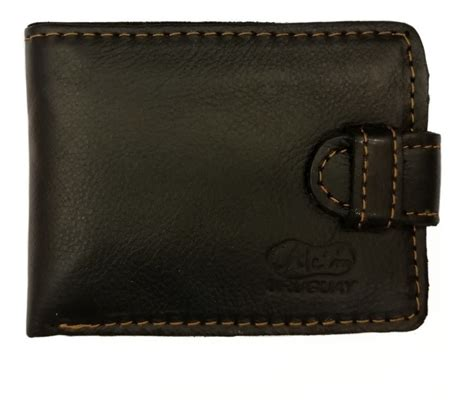cuero: (21, 18, 442, 338)
